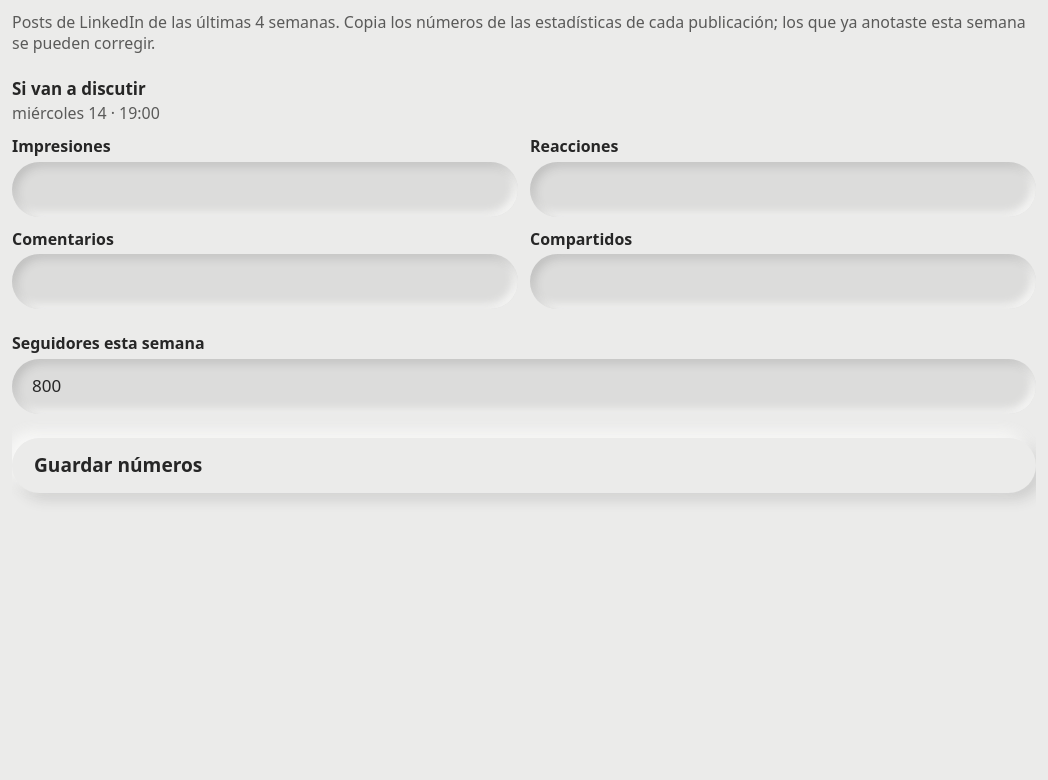
Scenario: NumerosDeLinkedin › says it saved the followers when only the followers changed
Replace the text in the field labelled "Seguidores esta semana" with "830". click: (524, 386)
box: left=12, top=359, right=1036, bottom=414
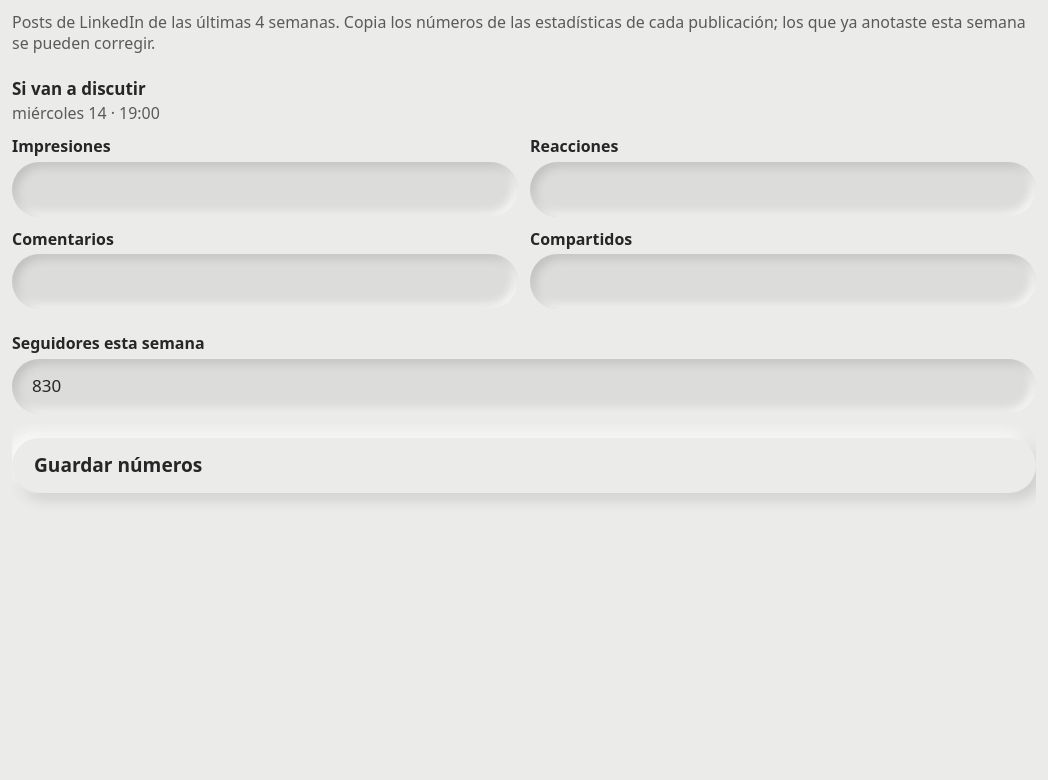
Click the button "Guardar números". click: (118, 465)
box: left=12, top=438, right=1036, bottom=493
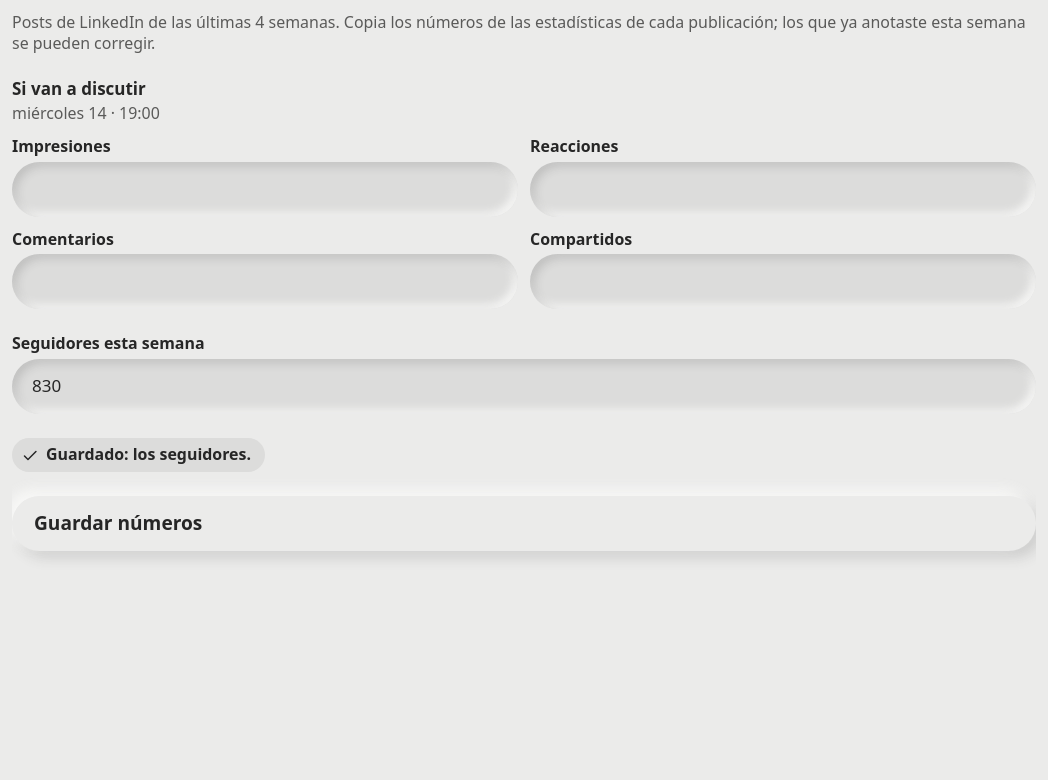
expect the text "Guardado: los seguidores." is shown: met, box left=46, top=444, right=251, bottom=465
